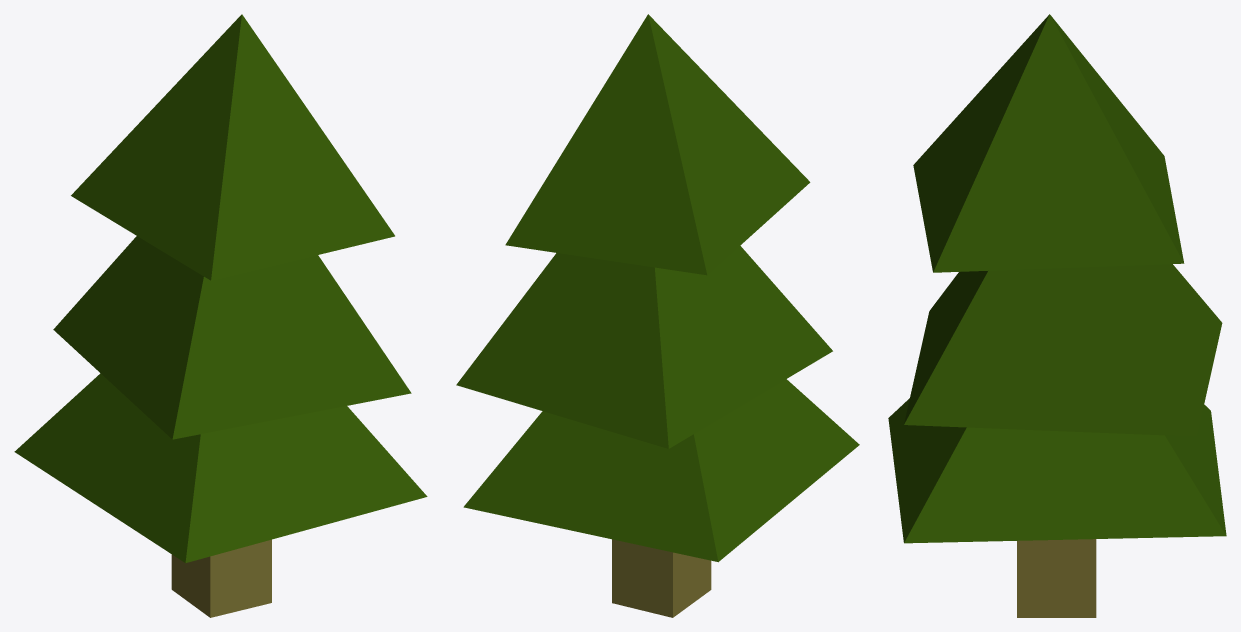
Rendered from PineTree.fbx.
3 renders of one model, left to right at view 1: azimuth 30°, elevation 25°; view 2: azimuth 150°, elevation 25°; view 3: azimuth 270°, elevation 25°, orthographic. The views are drawn at different scales.
Parts seen in each view (by area): view 1: pCube62; view 2: pCube62; view 3: pCube62.
Boxes of the visible parts, bbox=[...] form: pCube62: bbox=[14, 14, 427, 617]; pCube62: bbox=[456, 14, 859, 617]; pCube62: bbox=[888, 14, 1226, 617].
Bounding box in the file's own units: 51.24 × 105 × 53.81.
